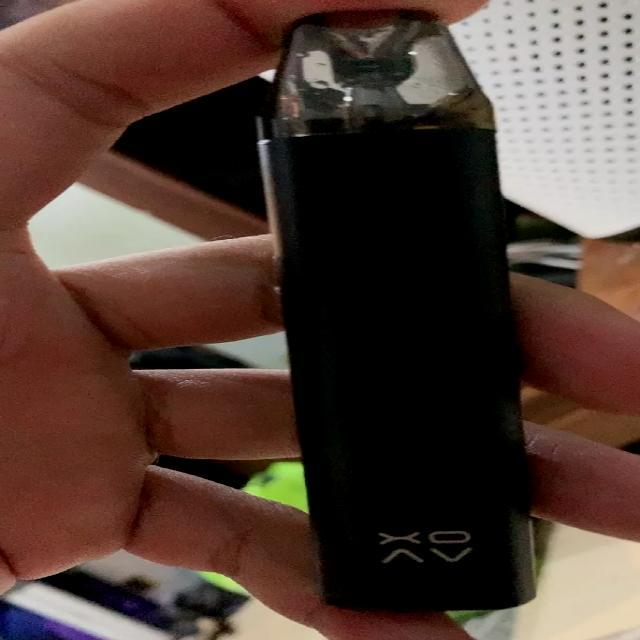Hazard: (252, 6, 538, 613)
